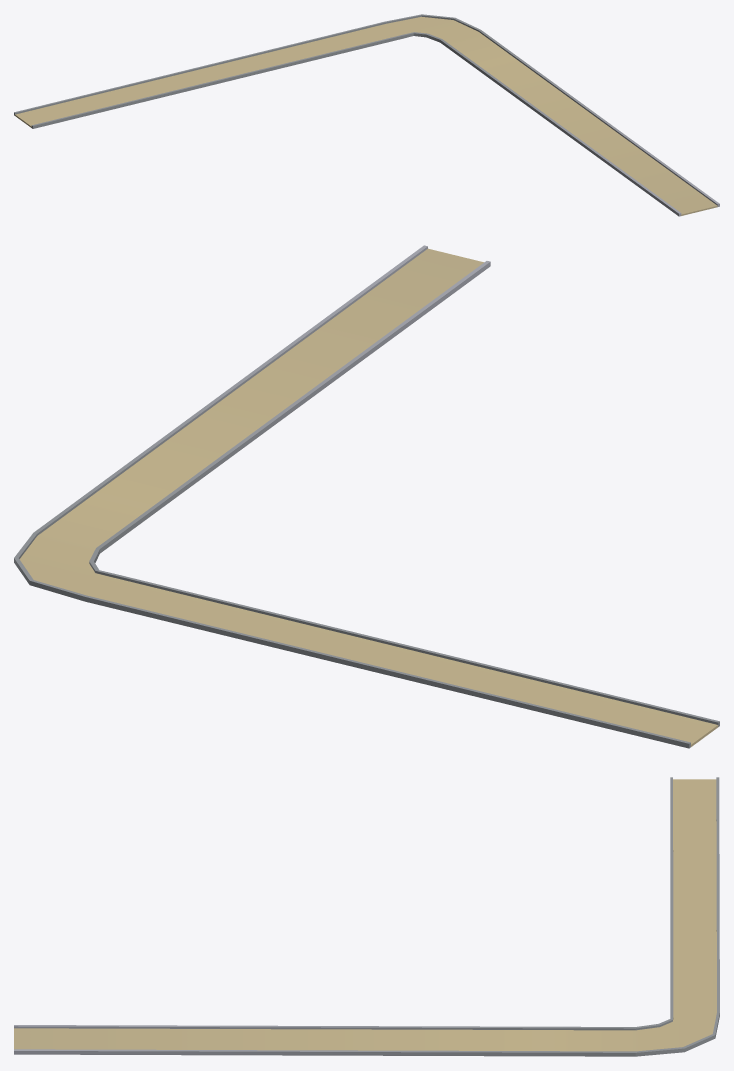
Rendered from sidewalk_27.fbx.
The picture shows the model from 3 angles, top to bottom: view 1: azimuth 30°, elevation 25°; view 2: azimuth 150°, elevation 25°; view 3: azimuth 270°, elevation 25°; orthographic projection. The views are drawn at different scales.
Visible parts, largest first — view 1: sidewalk_26; view 2: sidewalk_26; view 3: sidewalk_26.
Boxes of the visible parts, x1,y1,x2,y2 form: sidewalk_26: (14,14,719,216); sidewalk_26: (14,245,719,748); sidewalk_26: (14,777,719,1056).
Size of the model in its own units: 4.29 by 0.0401 by 4.65.
1 material, 1 textured.
